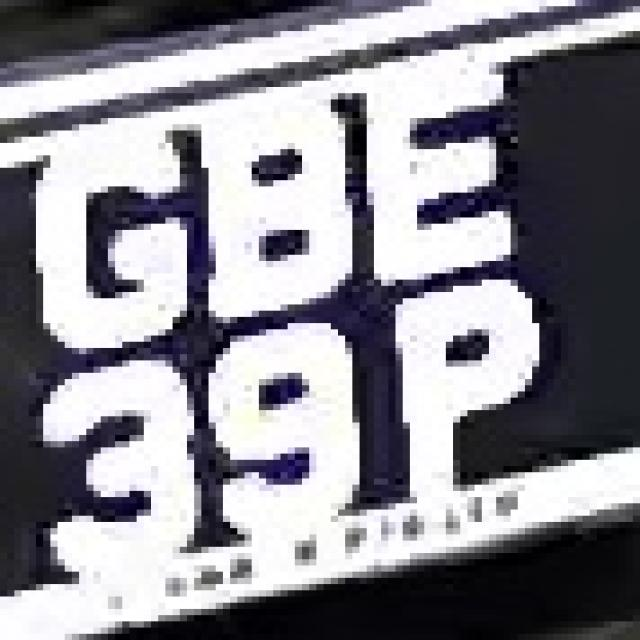3: (22, 348, 202, 578)
9: (209, 317, 381, 565)
B: (187, 74, 360, 330)
E: (338, 44, 525, 274)
G: (22, 124, 202, 367)
P: (381, 286, 561, 497)
